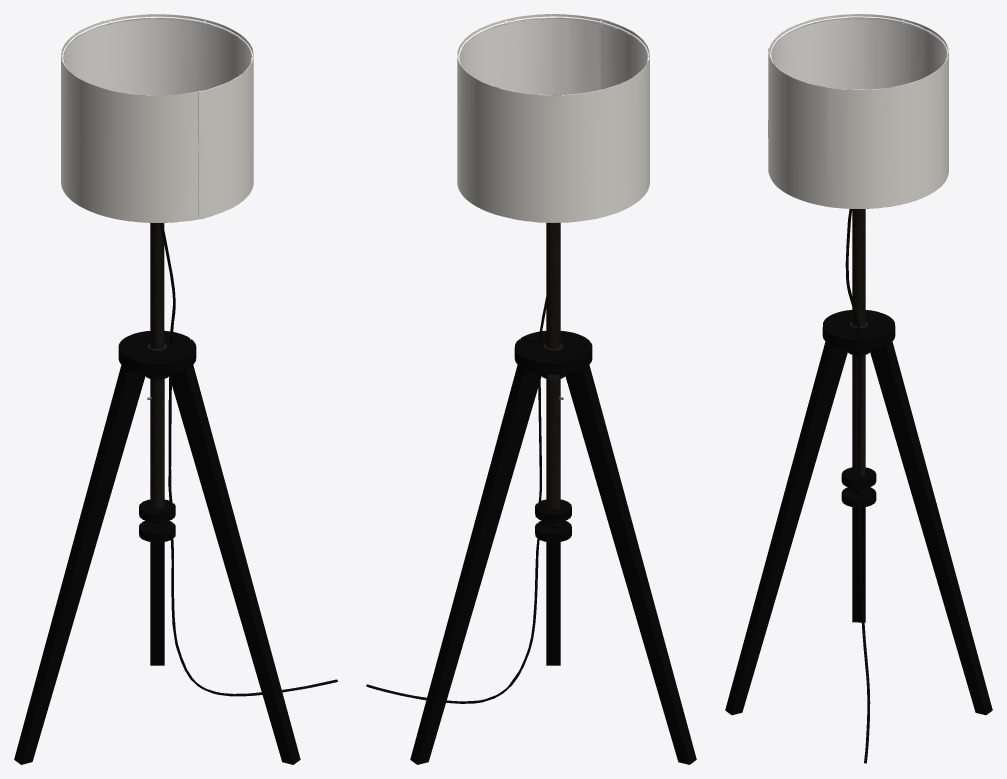
The model's file is lauters-lampara-de-pie-marron-fresno.glb.
3 views of the same model, side by side, from view 1: azimuth 30°, elevation 25°; view 2: azimuth 150°, elevation 25°; view 3: azimuth 270°, elevation 25° (orthographic). The views are drawn at different scales.
Visible parts, largest first — view 1: 80405073-LAUTERS001; view 2: 80405073-LAUTERS001; view 3: 80405073-LAUTERS001.
Part boxes in pixels (bbox=[...]): 80405073-LAUTERS001: bbox=[14, 14, 337, 764]; 80405073-LAUTERS001: bbox=[366, 14, 696, 764]; 80405073-LAUTERS001: bbox=[725, 14, 992, 763].
Size of the model in its own units: 0.7191 by 1.43 by 0.5527.
1 material, 1 textured.
